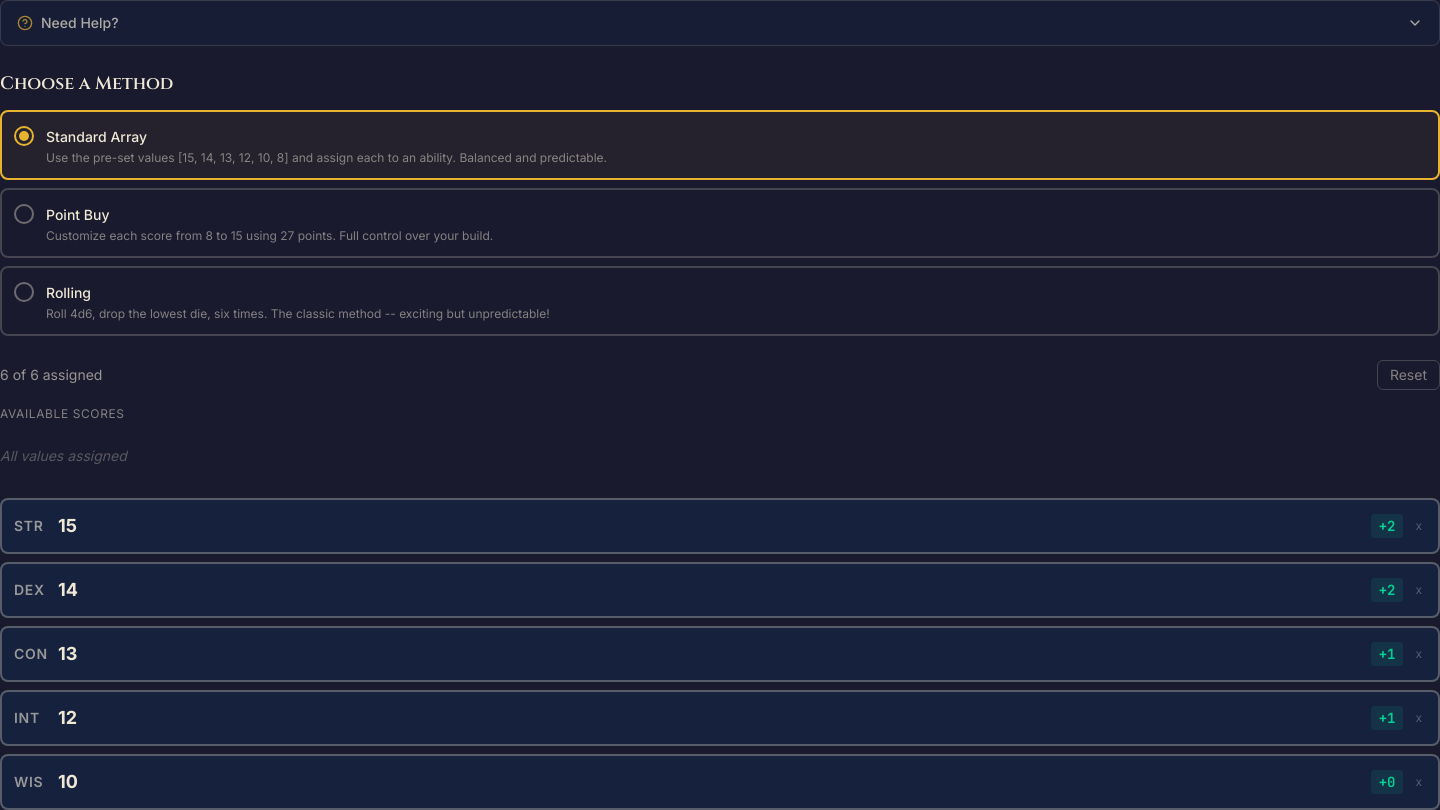
Scenario: AbilityScoreStep › should show confirmation dialog when switching methods after assignment
Note: Switch to Rolling
Click the text "Rolling" at (68, 292), box 46,284 -> 91,301
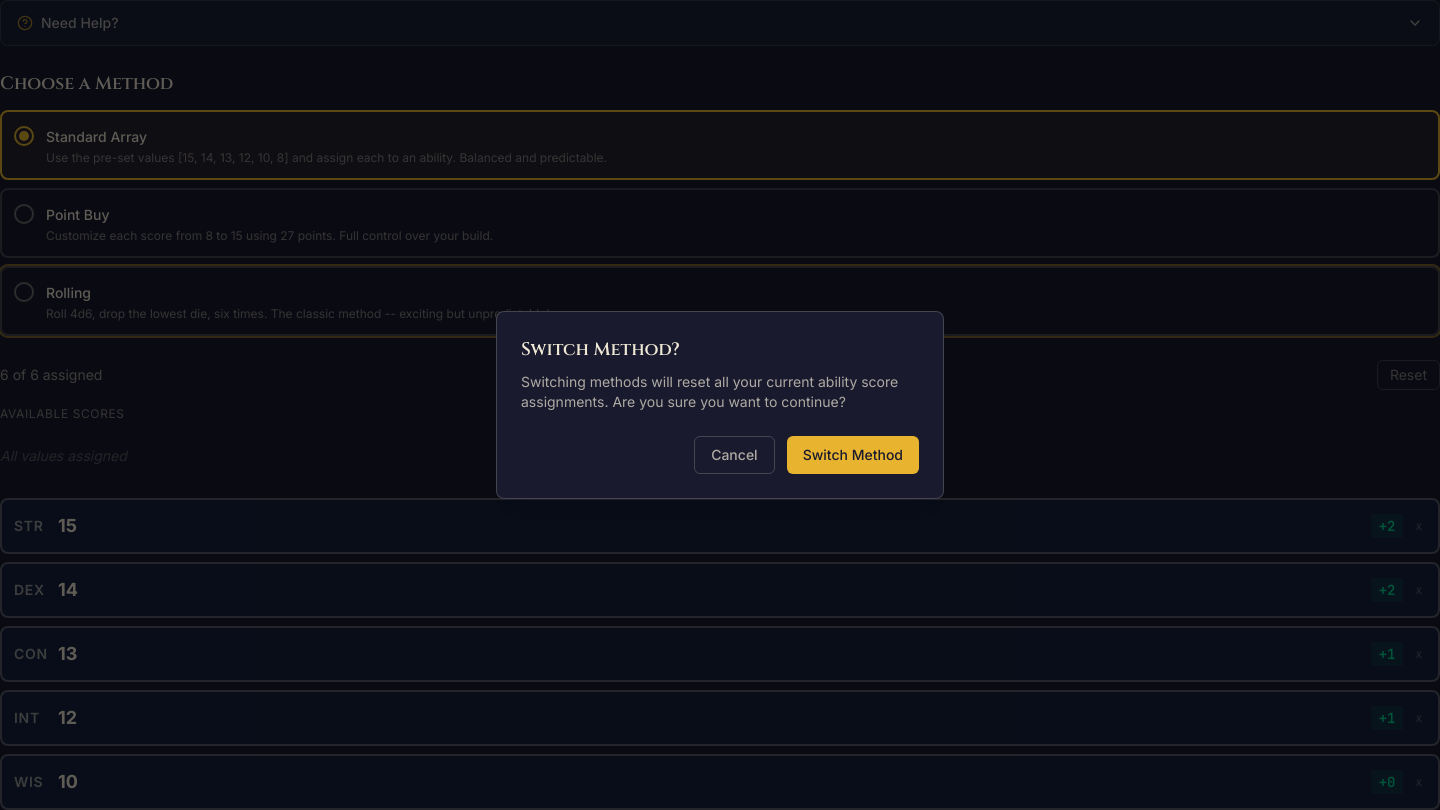
Expected: the element with test id "confirm-method-switch-dialog" is shown
